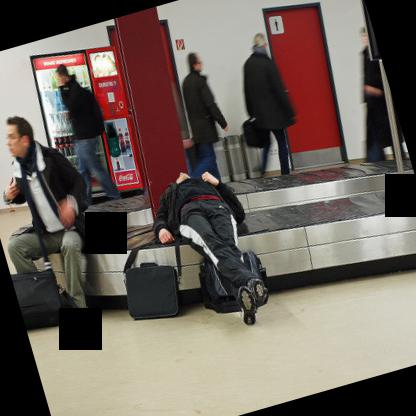backpack: (80, 86, 102, 134), (242, 115, 259, 146)
handbag: (123, 237, 183, 320), (75, 211, 99, 254), (243, 117, 265, 147)
suitcase: (11, 270, 64, 330)
